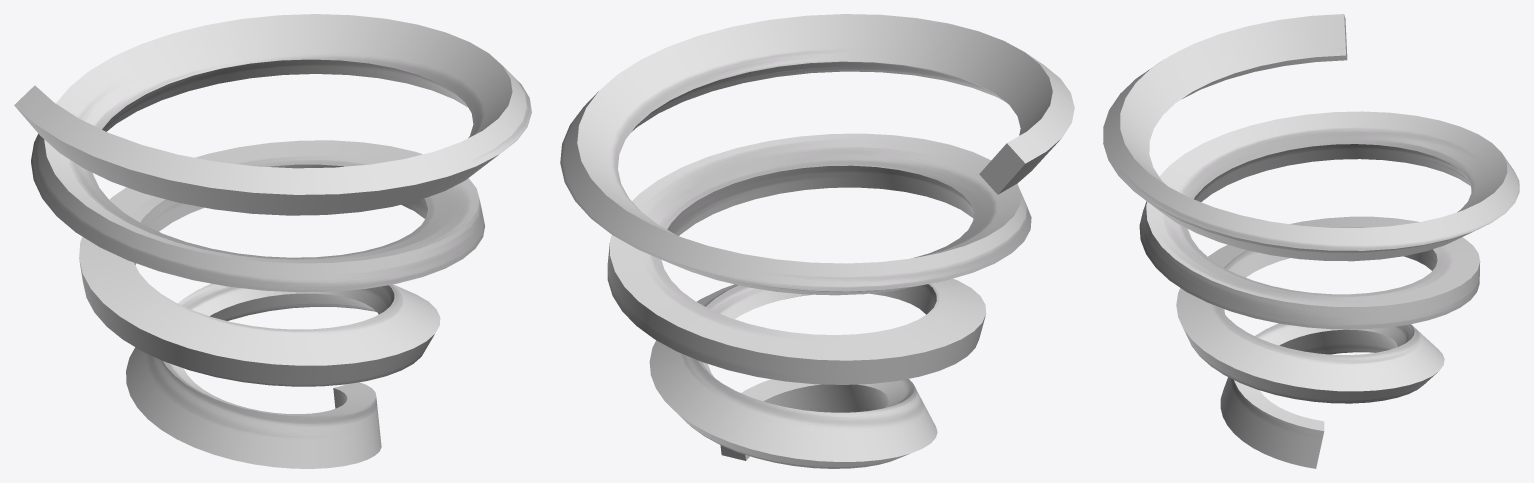
The model's file is feng.FBX.
3 views of the same model, side by side, from view 1: azimuth 30°, elevation 25°; view 2: azimuth 150°, elevation 25°; view 3: azimuth 270°, elevation 25° (orthographic). The views are drawn at different scales.
Parts seen in each view (by area): view 1: Helix001; view 2: Helix001; view 3: Helix001.
Part boxes in pixels (left/top/right/bottom): Helix001: left=14, top=14, right=531, bottom=468; Helix001: left=560, top=14, right=1074, bottom=468; Helix001: left=1103, top=14, right=1519, bottom=468.
Size of the model in its own units: 0.6135 by 0.5891 by 0.5179.
